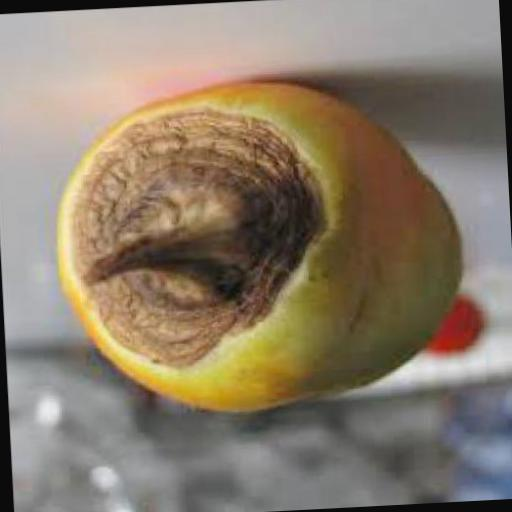biodegradable: (44, 74, 467, 424)
